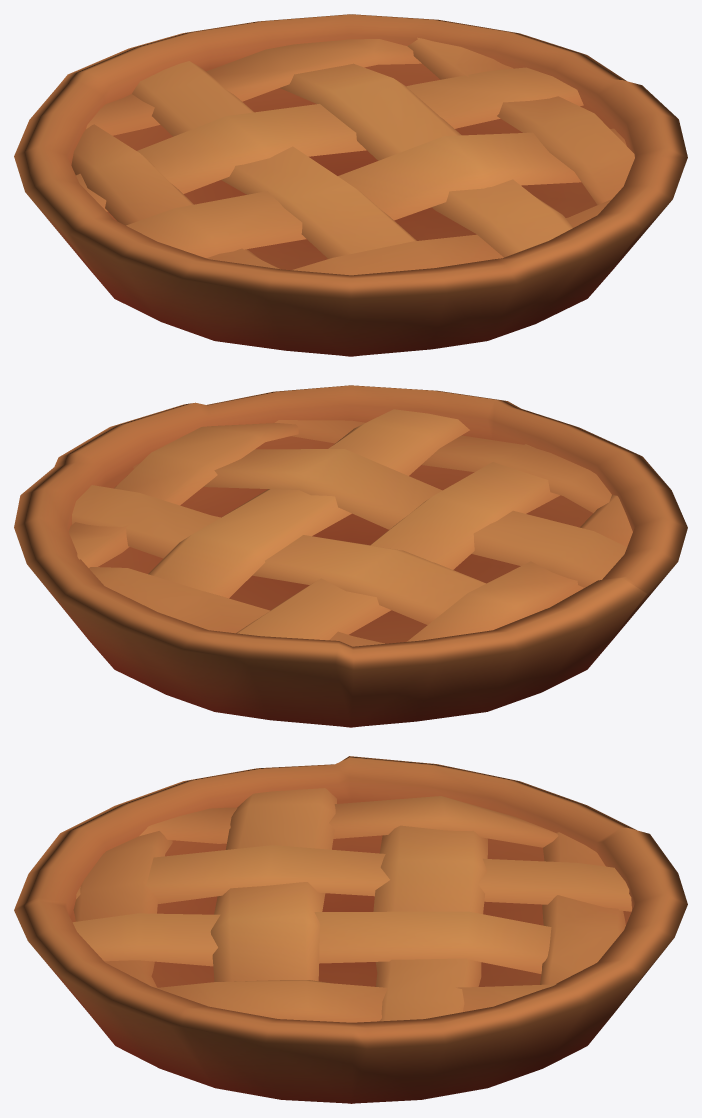
The model's file is apple_pie.glb.
3 views of the same model, one above another, from view 1: azimuth 30°, elevation 25°; view 2: azimuth 150°, elevation 25°; view 3: azimuth 270°, elevation 25° (orthographic).
Parts seen in each view (by area): view 1: SM_Food_General_03; view 2: SM_Food_General_03; view 3: SM_Food_General_03.
Boxes of the visible parts, <box> form: SM_Food_General_03: <box>14,14,687,356</box>; SM_Food_General_03: <box>14,385,687,727</box>; SM_Food_General_03: <box>14,756,687,1103</box>.
Bounding box in the file's own units: 0.7172 × 0.1348 × 0.7151.
1 material, 1 textured.
